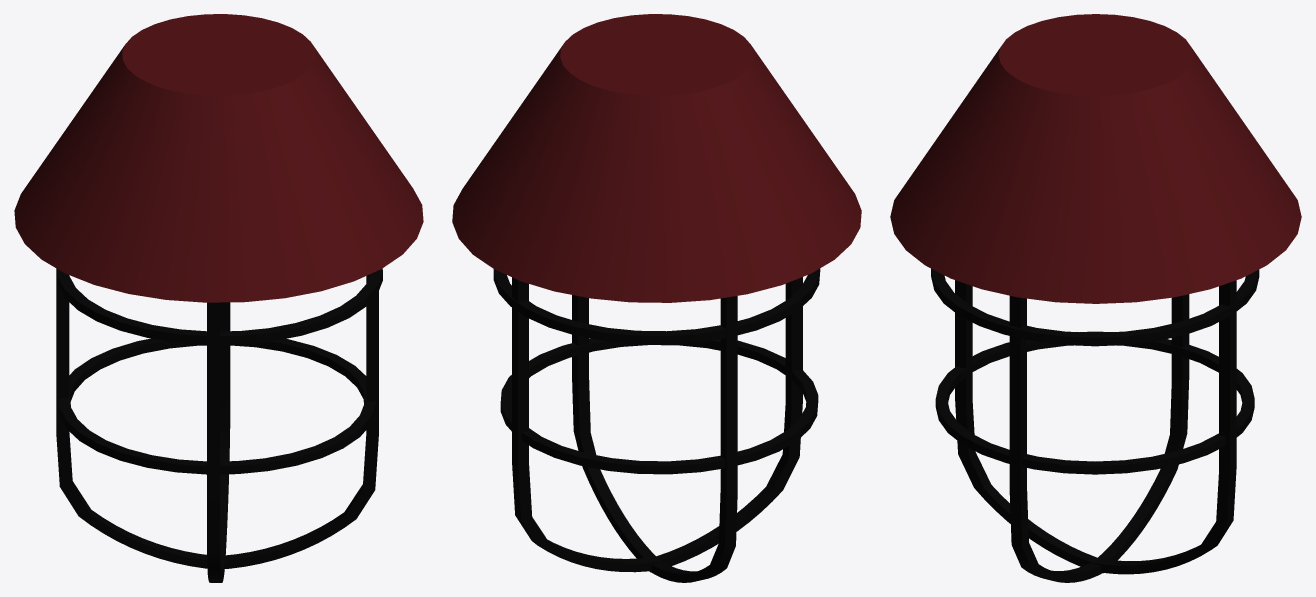
File: lamp.fbx
3 views of the same model, side by side, from view 1: azimuth 30°, elevation 25°; view 2: azimuth 150°, elevation 25°; view 3: azimuth 270°, elevation 25° (orthographic).
Parts seen in each view (by area): view 1: Cylinder.001, Cube.002, Cylinder.002, Cube, Cylinder; view 2: Cylinder.001, Cube, Cube.002, Cylinder.002, Cylinder; view 3: Cylinder.001, Cube, Cube.002, Cylinder.002, Cylinder.
Boxes of the visible parts, x1,y1,x2,y2 form: Cylinder.001: [14, 14, 423, 302]; Cube.002: [56, 268, 378, 568]; Cylinder.002: [59, 338, 375, 474]; Cube: [207, 302, 230, 582]; Cylinder: [57, 268, 382, 344]; Cylinder.001: [452, 14, 861, 302]; Cube: [512, 277, 802, 572]; Cube.002: [572, 295, 737, 582]; Cylinder.002: [500, 338, 818, 474]; Cylinder: [493, 268, 820, 344]; Cylinder.001: [890, 14, 1301, 303]; Cube: [955, 280, 1236, 574]; Cube.002: [1009, 294, 1189, 582]; Cylinder.002: [935, 331, 1254, 474]; Cylinder: [931, 268, 1259, 346].
Size of the model in its own units: 2277 by 3148 by 2277.
